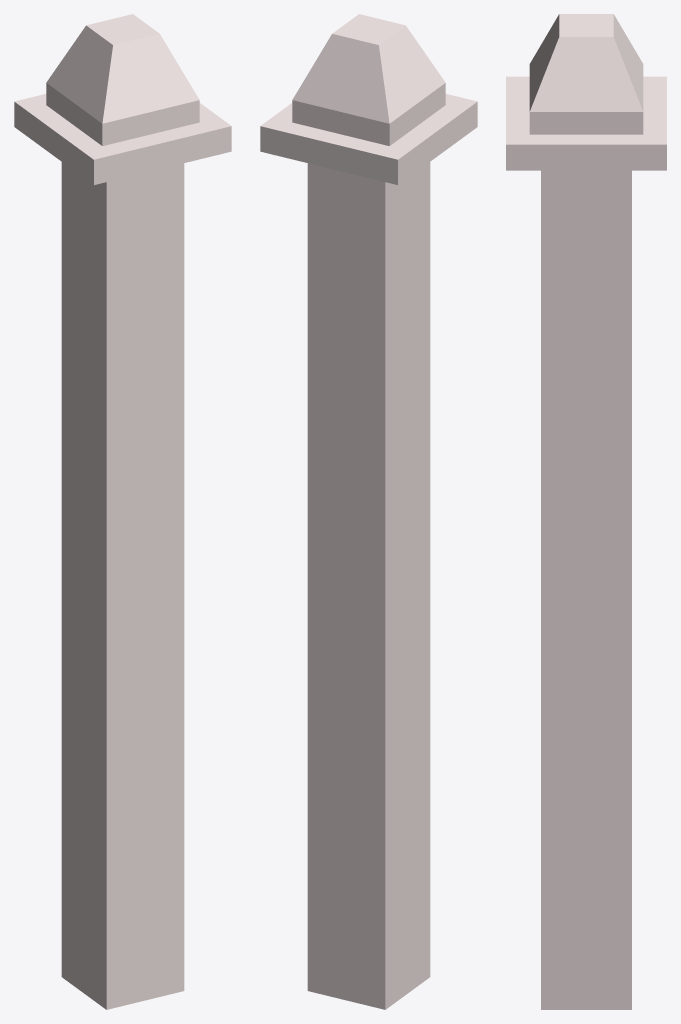
Rendered from FenceEdge.fbx.
The picture shows the model from 3 angles, left to right: view 1: azimuth 30°, elevation 25°; view 2: azimuth 150°, elevation 25°; view 3: azimuth 270°, elevation 25°; orthographic projection.
Parts seen in each view (by area): view 1: FenceEdge; view 2: FenceEdge; view 3: FenceEdge.
Boxes of the visible parts, x1,y1,x2,y2 form: FenceEdge: (14, 14, 231, 1009); FenceEdge: (260, 14, 477, 1009); FenceEdge: (506, 14, 666, 1009).
Bounding box in the file's own units: 28.83 × 191 × 28.83.
1 material, 1 textured.
